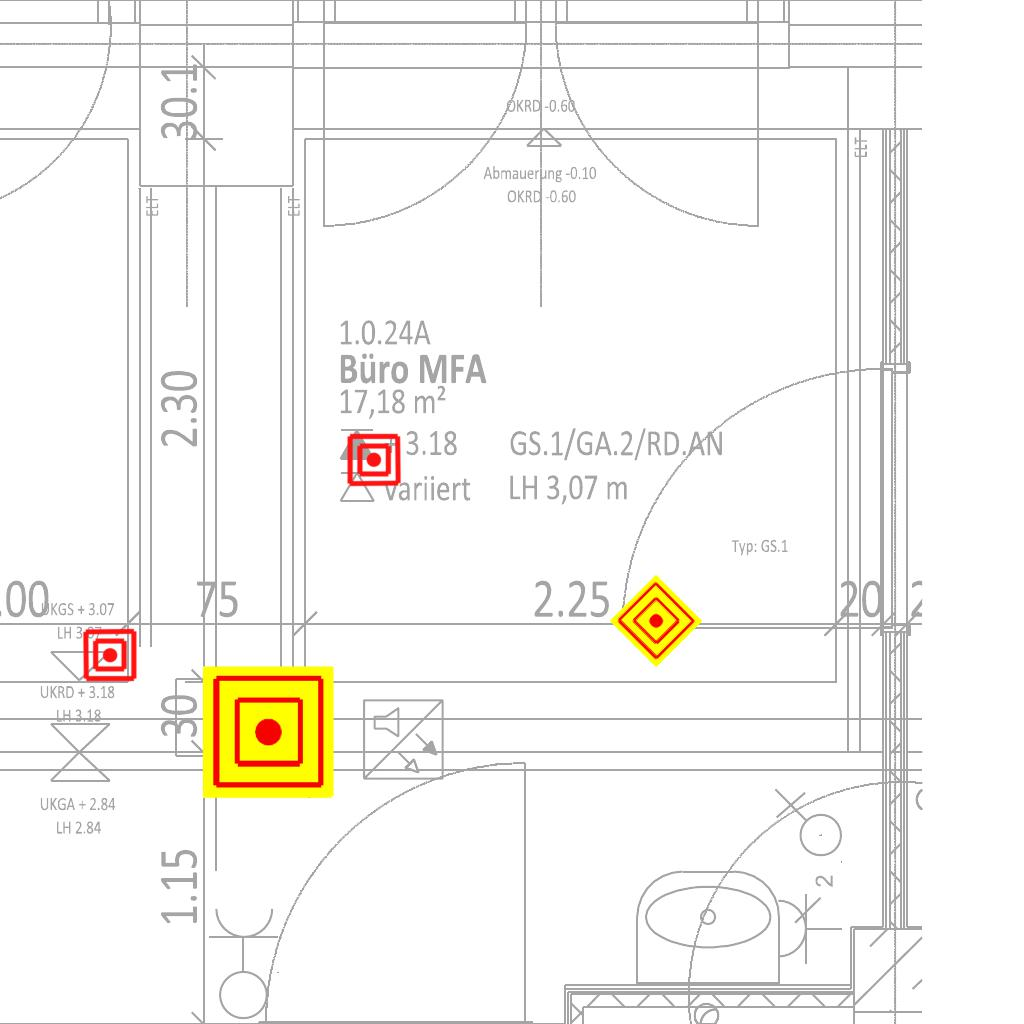NAM-Nichtautomatischer_Melder: (202, 666, 334, 798), (609, 574, 703, 668), (82, 627, 138, 683), (346, 432, 402, 488)
